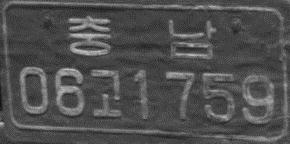0: (18, 65, 48, 114)
1: (127, 69, 159, 120)
5: (201, 71, 235, 123)
6: (54, 67, 85, 117)
7: (165, 71, 195, 120)
9: (241, 73, 276, 125)
고: (90, 68, 122, 118)
충남_D: (67, 15, 217, 60)
